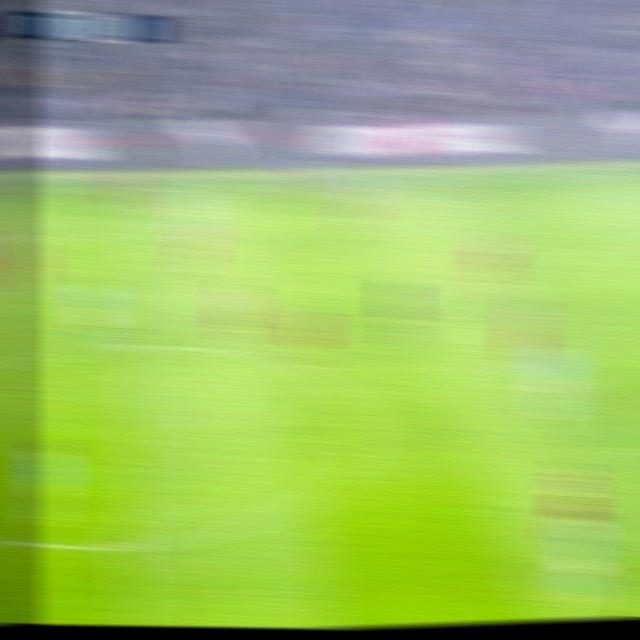halfcircle_bottom: (107, 525, 158, 565)
halfcircle_top: (109, 327, 164, 365)
midline_top_intersection: (122, 176, 160, 201)
